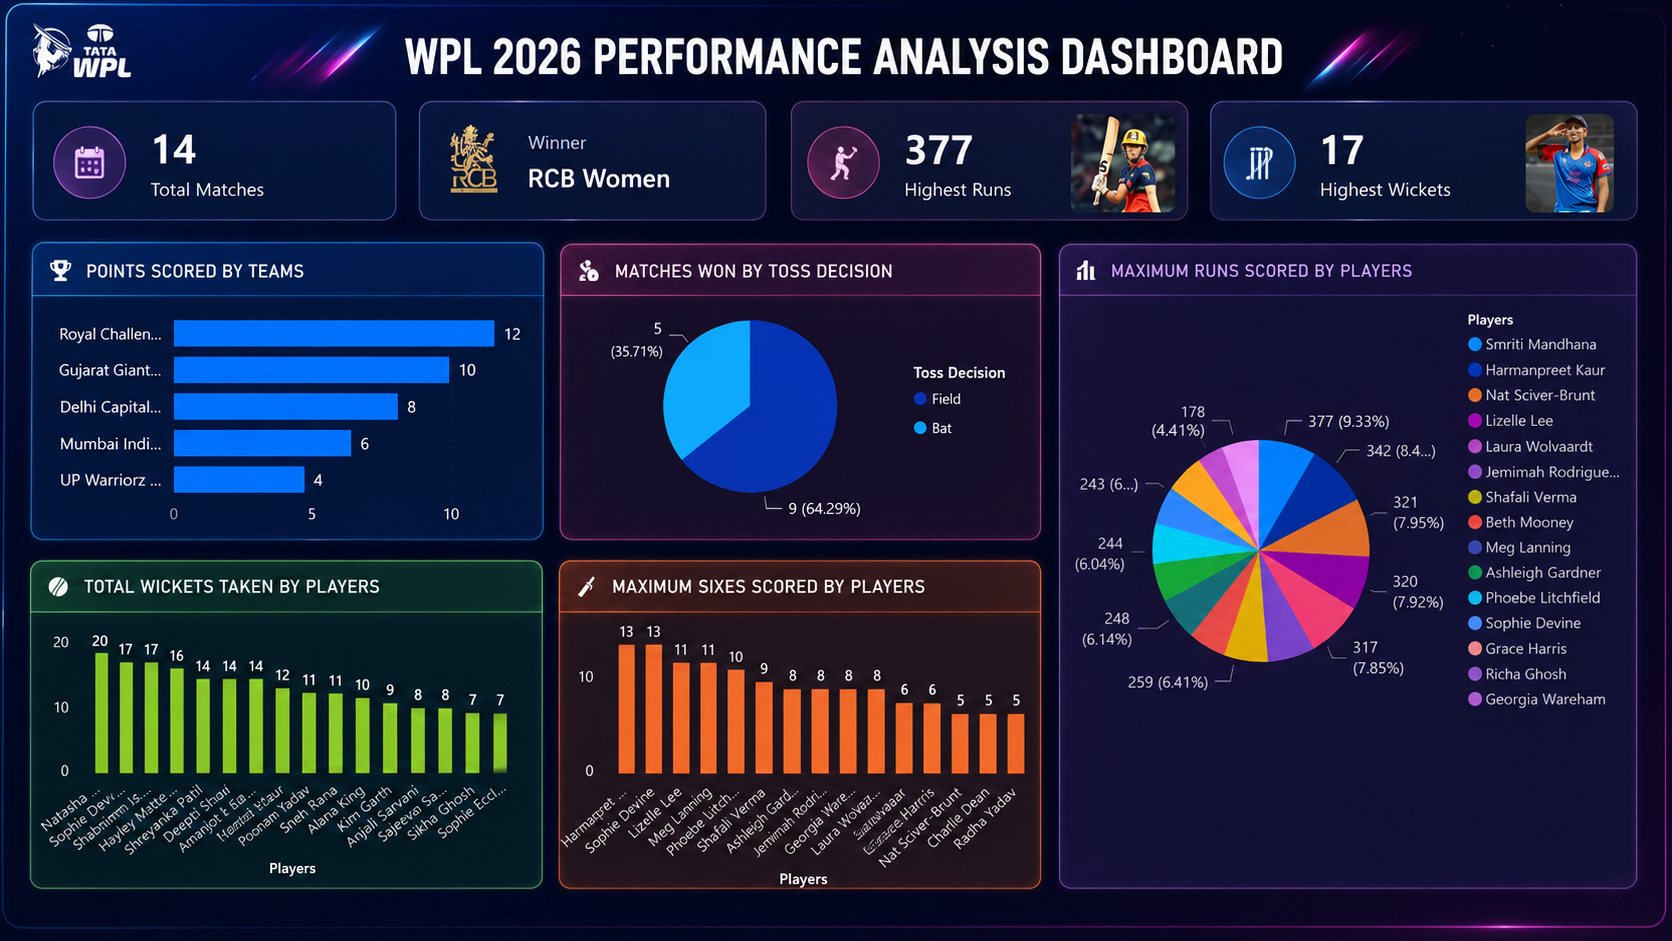

Layout of this report page (visuals, bound fields, positions):
{"tool":"powerbi","page":{"name":"Page 1","canvas":[1280,720],"ordinal":0},"visuals":[{"type":"clusteredBarChart","fields":{"Category":["points_table - Sheet1.Team"],"Y":["Max(points_table - Sheet1.Points)"]},"box":[1.4,182.9,372.9,275.7],"z":0},{"type":"clusteredColumnChart","fields":{"Category":["TOP__BOWLER__WPL - Sheet1.PLAYER"],"Y":["Max(TOP__BOWLER__WPL - Sheet1.WKTS)"]},"box":[0,458.6,372.9,261.4],"z":1000},{"type":"columnChart","fields":{"Category":["Most_sixes - Sheet1.BATTER"],"Y":["Max(Most_sixes - Sheet1.Sixes)"]},"box":[374.3,458.6,441.4,261.4],"z":2000},{"type":"textbox","box":[0,0,1280.3,91.9],"z":3000},{"type":"pieChart","fields":{"Category":["top_run_scorers - Sheet1.PLAYER"],"Y":["Max(top_run_scorers - Sheet1.RUNS)"]},"box":[815.7,182.9,464.3,537.1],"z":4000},{"type":"pieChart","fields":{"Category":["match_results - Sheet1.Toss Decision"],"Y":["CountNonNull(match_results - Sheet1.Toss Winner)"]},"box":[372.9,182.9,442.9,275.7],"z":5000},{"type":"image","box":[12.9,0,81.4,91.4],"z":6000},{"type":"textbox","title":"14","box":[0,91.4,267.1,91.4],"z":7000},{"type":"textbox","title":"Winner","box":[274.3,91.4,340,81.4],"z":8000},{"type":"image","box":[444.3,64.3,274.3,130],"z":9000},{"type":"textbox","title":"377","box":[622.9,91.4,328.6,81.4],"z":10000},{"type":"image","box":[822.9,64.3,128.6,132.9],"z":11000},{"type":"textbox","title":"17","box":[958.6,91.4,314.3,81.4],"z":12000},{"type":"image","box":[1177.1,91.4,88.6,81.4],"z":13000}]}

Visuals, with their boxes in screenshot pixels (x1, y1, x2, y2), scaled from the page's 1280x720 canvas onto the 1672x941 screenshot:
clusteredBarChart - points_table - Sheet1.Team x Max(points_table - Sheet1.Points): rect(2, 239, 489, 599)
clusteredColumnChart - TOP__BOWLER__WPL - Sheet1.PLAYER x Max(TOP__BOWLER__WPL - Sheet1.WKTS): rect(0, 599, 487, 940)
columnChart - Most_sixes - Sheet1.BATTER x Max(Most_sixes - Sheet1.Sixes): rect(489, 599, 1066, 940)
textbox: rect(0, 0, 1671, 120)
pieChart - top_run_scorers - Sheet1.PLAYER x Max(top_run_scorers - Sheet1.RUNS): rect(1066, 239, 1671, 940)
pieChart - match_results - Sheet1.Toss Decision x CountNonNull(match_results - Sheet1.Toss Winner): rect(487, 239, 1066, 599)
image: rect(17, 0, 123, 119)
"14" textbox: rect(0, 119, 349, 239)
"Winner" textbox: rect(358, 119, 802, 226)
image: rect(580, 84, 939, 254)
"377" textbox: rect(814, 119, 1243, 226)
image: rect(1075, 84, 1243, 258)
"17" textbox: rect(1252, 119, 1663, 226)
image: rect(1538, 119, 1653, 226)
